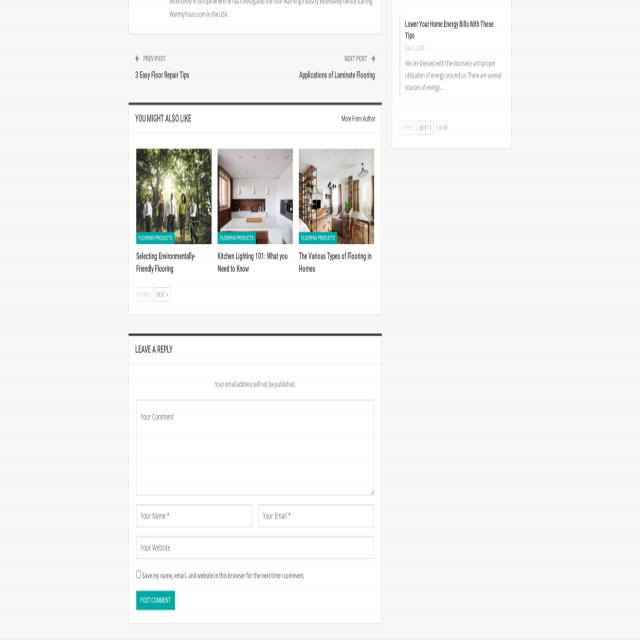button: (136, 149, 212, 243), (217, 149, 293, 243), (299, 149, 374, 243), (136, 591, 175, 610), (217, 232, 256, 244), (136, 232, 174, 244), (299, 232, 337, 244), (417, 120, 434, 134), (136, 287, 153, 301), (400, 121, 416, 135), (155, 289, 170, 301)
field: (137, 399, 374, 496), (136, 536, 374, 559), (136, 505, 252, 527), (258, 505, 374, 527), (136, 570, 140, 578)
